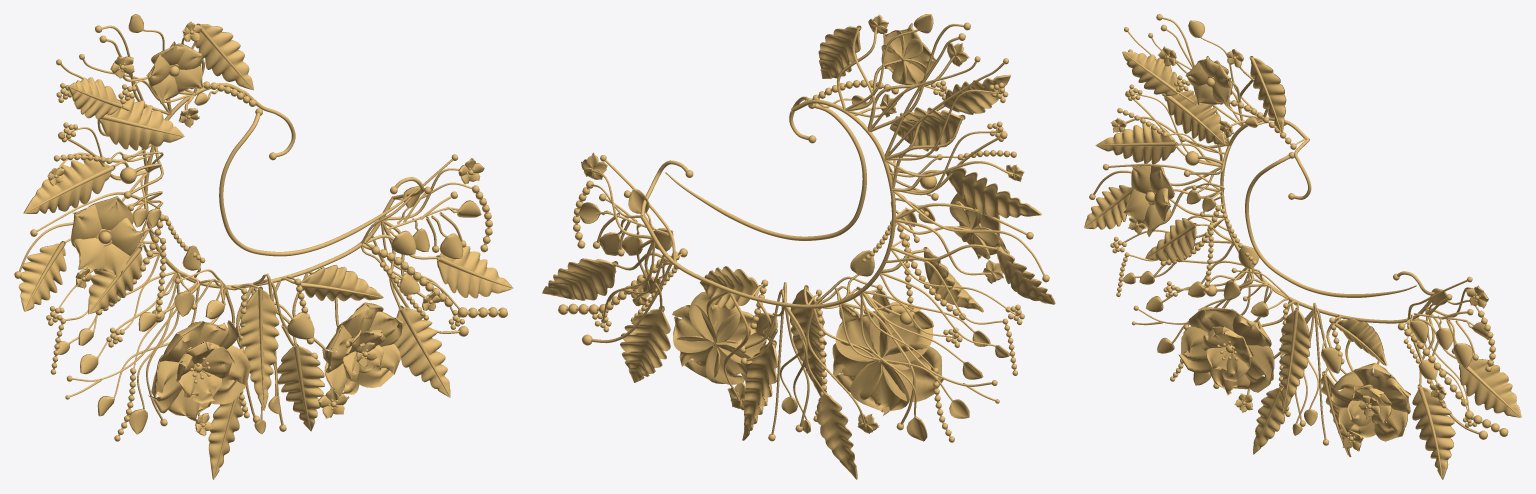
Rendered from floral-ear-cuff.glb.
The picture shows the model from 3 angles, left to right: view 1: azimuth 30°, elevation 25°; view 2: azimuth 150°, elevation 25°; view 3: azimuth 330°, elevation 25°; orthographic projection. The views are drawn at different scales.
Visible parts, largest first — view 1: cuff_Gold, beads_Gold, flower_03_Gold, buds_Gold, flower_04_Gold, flower_02_Gold, leaf_07_Gold, leaf_11_Gold, leaf_02_Gold, leaf_04_Gold, leaf_08_Gold, flower_01_Gold (+8 smaller); view 2: cuff_Gold, beads_Gold, flower_03_Gold, buds_Gold, flower_04_Gold, leaf_11_Gold, leaf_10_Gold, leaf_04_Gold, flower_01_Gold, leaf_08_Gold, leaf_12_Gold, leaf_02_Gold (+7 smaller); view 3: cuff_Gold, flower_03_Gold, beads_Gold, buds_Gold, flower_04_Gold, flower_02_Gold, leaf_11_Gold, leaf_10_Gold, leaf_07_Gold, leaf_04_Gold, leaf_02_Gold, flower_01_Gold (+7 smaller).
Part boxes in pixels (bbox=[...]): cuff_Gold: bbox=[18, 24, 500, 436]; beads_Gold: bbox=[14, 25, 507, 441]; flower_03_Gold: bbox=[148, 320, 250, 421]; buds_Gold: bbox=[57, 14, 481, 434]; flower_04_Gold: bbox=[322, 302, 403, 400]; flower_02_Gold: bbox=[71, 196, 145, 280]; leaf_07_Gold: bbox=[239, 286, 279, 410]; leaf_11_Gold: bbox=[394, 305, 450, 397]; leaf_02_Gold: bbox=[98, 98, 184, 150]; leaf_04_Gold: bbox=[23, 158, 115, 213]; leaf_08_Gold: bbox=[277, 343, 324, 431]; flower_01_Gold: bbox=[146, 41, 203, 104]; cuff_Gold: bbox=[566, 24, 1044, 437]; beads_Gold: bbox=[558, 22, 1049, 442]; flower_03_Gold: bbox=[832, 302, 943, 415]; buds_Gold: bbox=[578, 14, 1009, 441]; flower_04_Gold: bbox=[672, 291, 766, 384]; leaf_11_Gold: bbox=[620, 305, 670, 382]; leaf_10_Gold: bbox=[542, 258, 618, 300]; leaf_04_Gold: bbox=[946, 167, 1042, 218]; flower_01_Gold: bbox=[881, 23, 936, 84]; leaf_08_Gold: bbox=[742, 340, 778, 440]; leaf_12_Gold: bbox=[816, 390, 857, 479]; leaf_02_Gold: bbox=[889, 107, 965, 151]; cuff_Gold: bbox=[1093, 17, 1500, 439]; flower_03_Gold: bbox=[1178, 307, 1274, 395]; beads_Gold: bbox=[1089, 14, 1508, 445]; buds_Gold: bbox=[1123, 20, 1489, 435]; flower_04_Gold: bbox=[1329, 362, 1410, 441]; flower_02_Gold: bbox=[1123, 164, 1174, 236]; leaf_11_Gold: bbox=[1412, 384, 1455, 479]; leaf_10_Gold: bbox=[1457, 358, 1521, 417]; leaf_07_Gold: bbox=[1279, 308, 1310, 413]; leaf_04_Gold: bbox=[1095, 123, 1178, 164]; leaf_02_Gold: bbox=[1161, 90, 1225, 144]; flower_01_Gold: bbox=[1185, 56, 1232, 106].
Size of the model in its own units: 0.1232 by 0.1131 by 0.0142.
